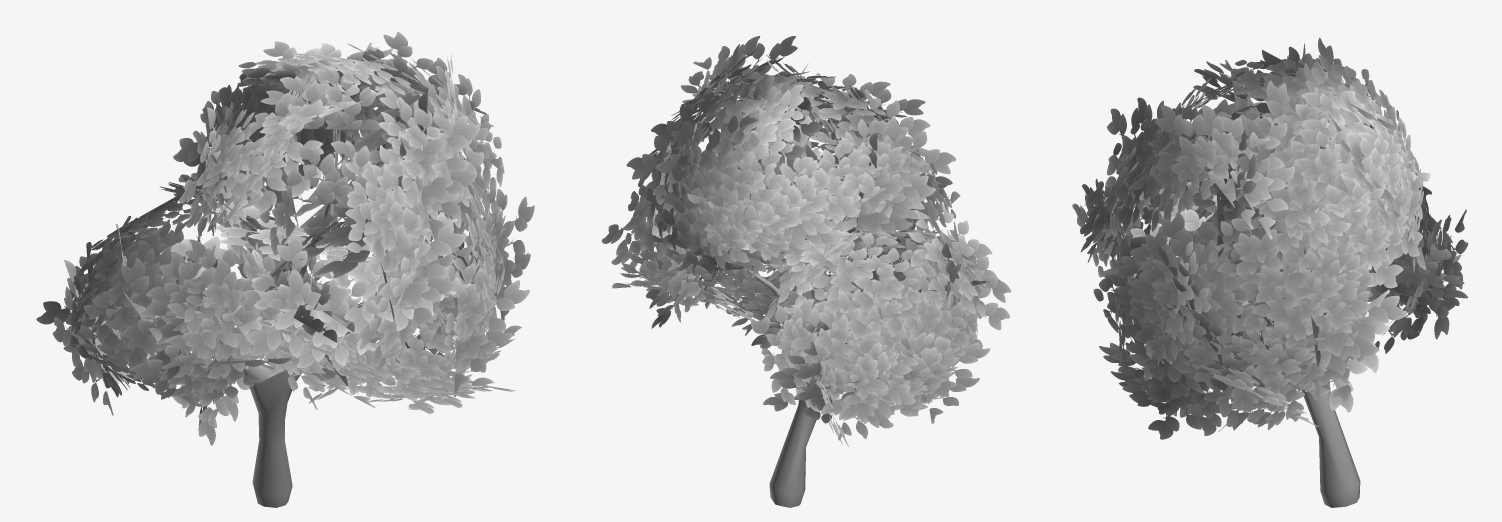
File: Bush_02.fbx
3 renders of one model, left to right at view 1: azimuth 30°, elevation 25°; view 2: azimuth 150°, elevation 25°; view 3: azimuth 270°, elevation 25°, orthographic. The views are drawn at different scales.
Visible parts, largest first — view 1: Bush_09_LOD0; view 2: Bush_09_LOD0; view 3: Bush_09_LOD0.
Boxes of the visible parts, left/top/right/bottom form: Bush_09_LOD0: left=36, top=32, right=534, bottom=507; Bush_09_LOD0: left=601, top=36, right=1011, bottom=507; Bush_09_LOD0: left=1072, top=37, right=1468, bottom=507.
Size of what is drawn, in the model's own units: 118 by 118 by 93.74.
